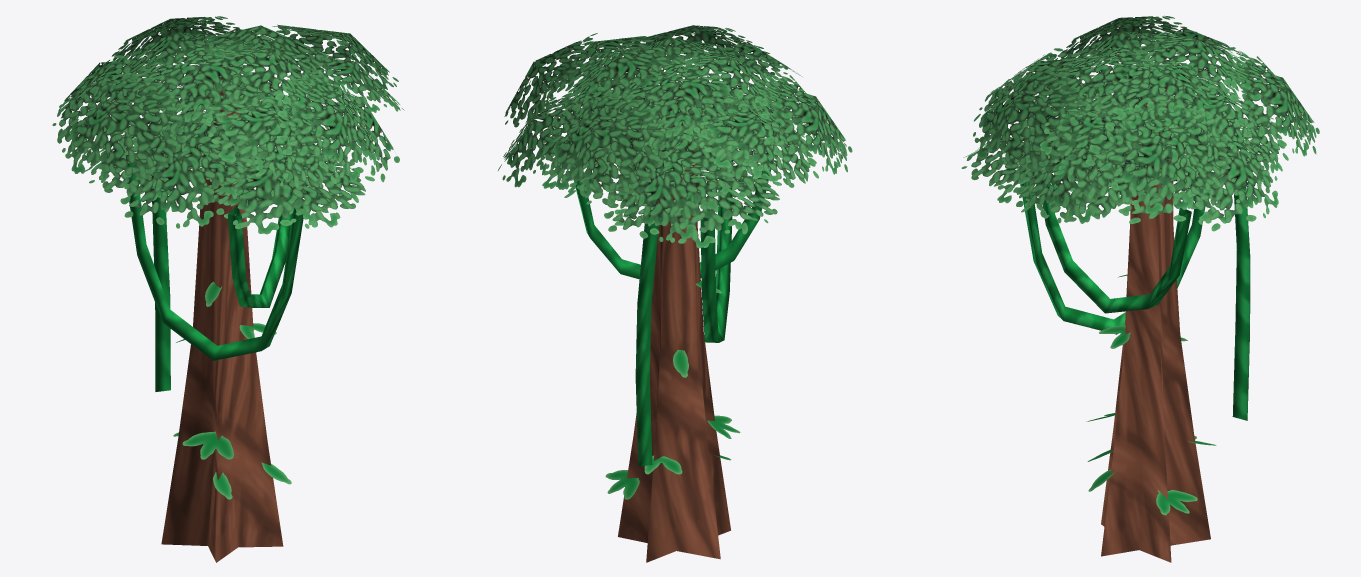
The model's file is JungleTree-0.fbx.
3 renders of one model, left to right at view 1: azimuth 30°, elevation 25°; view 2: azimuth 150°, elevation 25°; view 3: azimuth 270°, elevation 25°, orthographic. The views are drawn at different scales.
Visible parts, largest first — view 1: JungleTree-0; view 2: JungleTree-0; view 3: JungleTree-0.
Boxes of the visible parts, bbox=[...] form: JungleTree-0: bbox=[52, 16, 404, 562]; JungleTree-0: bbox=[498, 25, 852, 562]; JungleTree-0: bbox=[961, 15, 1319, 562].
Bounding box in the file's own units: 243 × 219 × 301.
